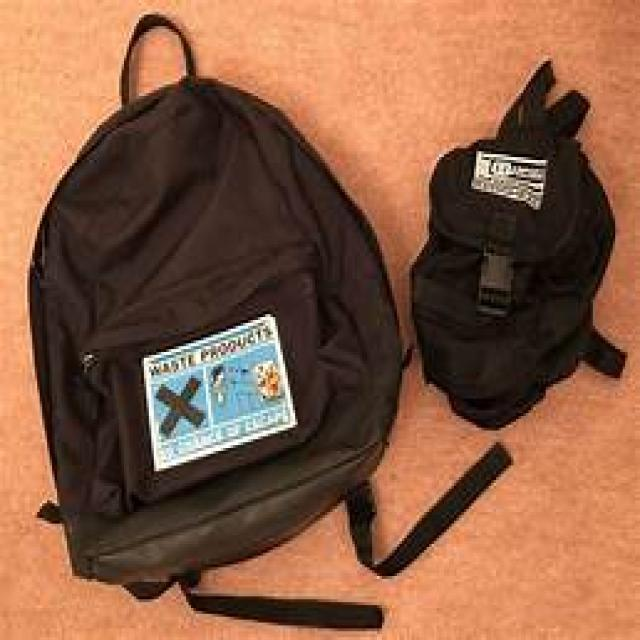backpack: (26, 13, 512, 629), (408, 56, 629, 429)
